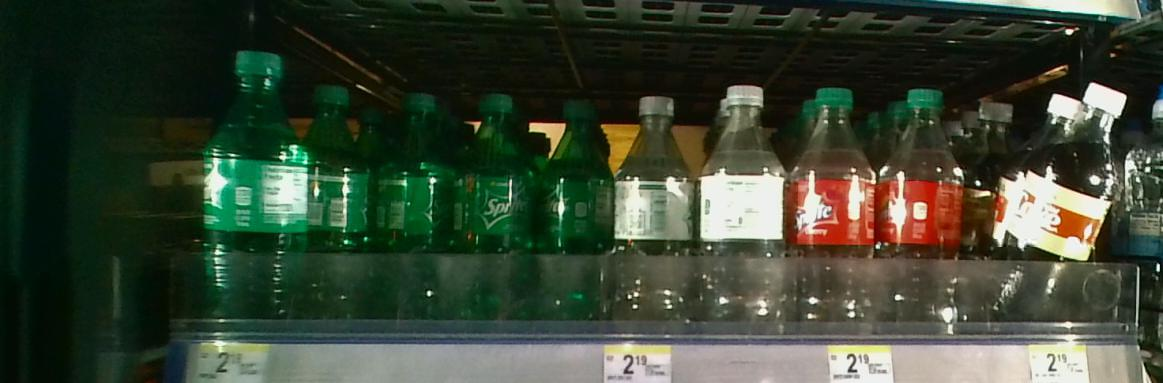bottle: (991, 73, 1130, 333), (197, 34, 309, 316), (698, 87, 786, 337), (870, 87, 958, 336), (610, 88, 696, 330), (788, 86, 871, 336), (531, 89, 609, 335), (386, 73, 456, 333), (458, 89, 531, 322), (306, 78, 372, 315)
